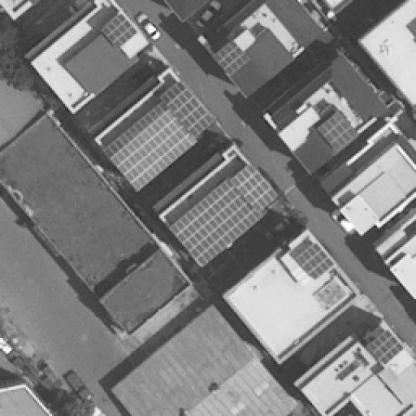solar-pv-panel: (103, 81, 216, 193), (168, 163, 279, 269), (316, 110, 360, 154), (294, 241, 335, 279), (213, 41, 252, 78), (99, 13, 137, 48), (367, 330, 404, 365)
